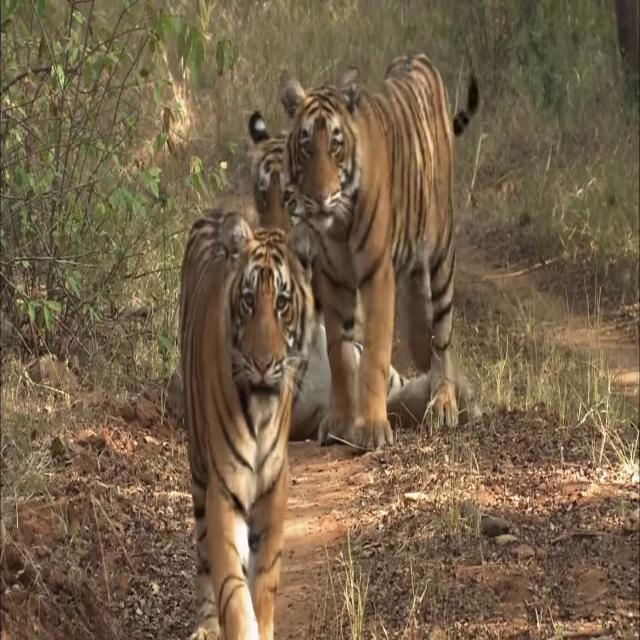tiger: (273, 49, 480, 453), (168, 206, 335, 640), (246, 104, 312, 252)
